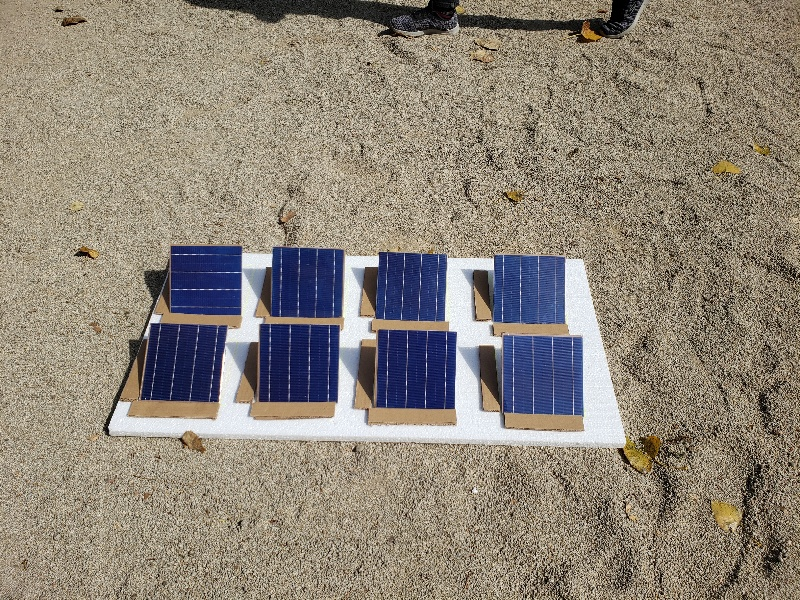clean: (502, 333, 590, 418), (372, 330, 460, 413), (140, 322, 226, 400), (258, 323, 339, 402), (490, 251, 570, 325), (173, 243, 249, 317), (375, 250, 451, 323), (273, 246, 347, 318)
